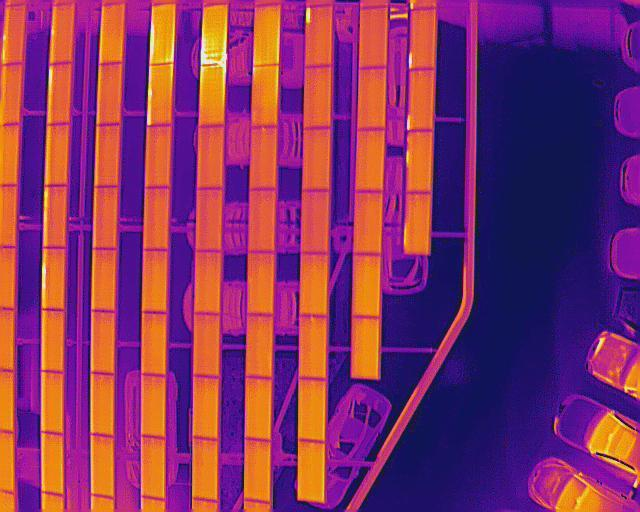Cell: (406, 131, 433, 193), (0, 4, 27, 65), (50, 3, 76, 66)
No-Anomaly: (356, 128, 386, 192), (354, 191, 384, 255), (253, 3, 282, 68), (143, 124, 172, 188), (300, 253, 329, 317), (358, 67, 387, 131), (249, 188, 277, 254), (252, 63, 280, 129), (194, 252, 223, 314), (298, 378, 327, 440), (143, 187, 171, 251), (404, 192, 432, 256), (246, 315, 274, 379), (300, 316, 328, 380), (303, 65, 331, 129), (197, 124, 224, 190), (250, 125, 277, 191), (302, 128, 330, 191), (353, 254, 381, 317), (193, 314, 221, 377), (142, 248, 169, 313), (302, 190, 330, 252), (245, 378, 273, 440), (196, 187, 223, 251), (360, 5, 387, 69), (194, 376, 220, 442), (298, 441, 326, 502), (91, 248, 118, 311), (352, 318, 380, 378), (45, 122, 70, 189), (248, 253, 275, 315), (95, 123, 121, 187), (94, 186, 120, 250), (97, 62, 123, 126), (91, 311, 117, 374), (43, 184, 68, 249), (100, 2, 126, 64), (141, 375, 166, 439), (142, 311, 167, 374), (246, 440, 271, 502), (91, 434, 115, 497), (141, 437, 165, 500), (0, 64, 24, 127), (91, 373, 115, 435), (194, 439, 218, 501), (41, 309, 64, 373), (41, 371, 64, 434), (42, 435, 64, 496)
Unclassified: (305, 5, 333, 68), (198, 65, 226, 128), (201, 4, 229, 66), (409, 8, 437, 70), (407, 68, 435, 130), (147, 63, 173, 127), (150, 4, 176, 66), (42, 247, 66, 312), (47, 62, 72, 124)
